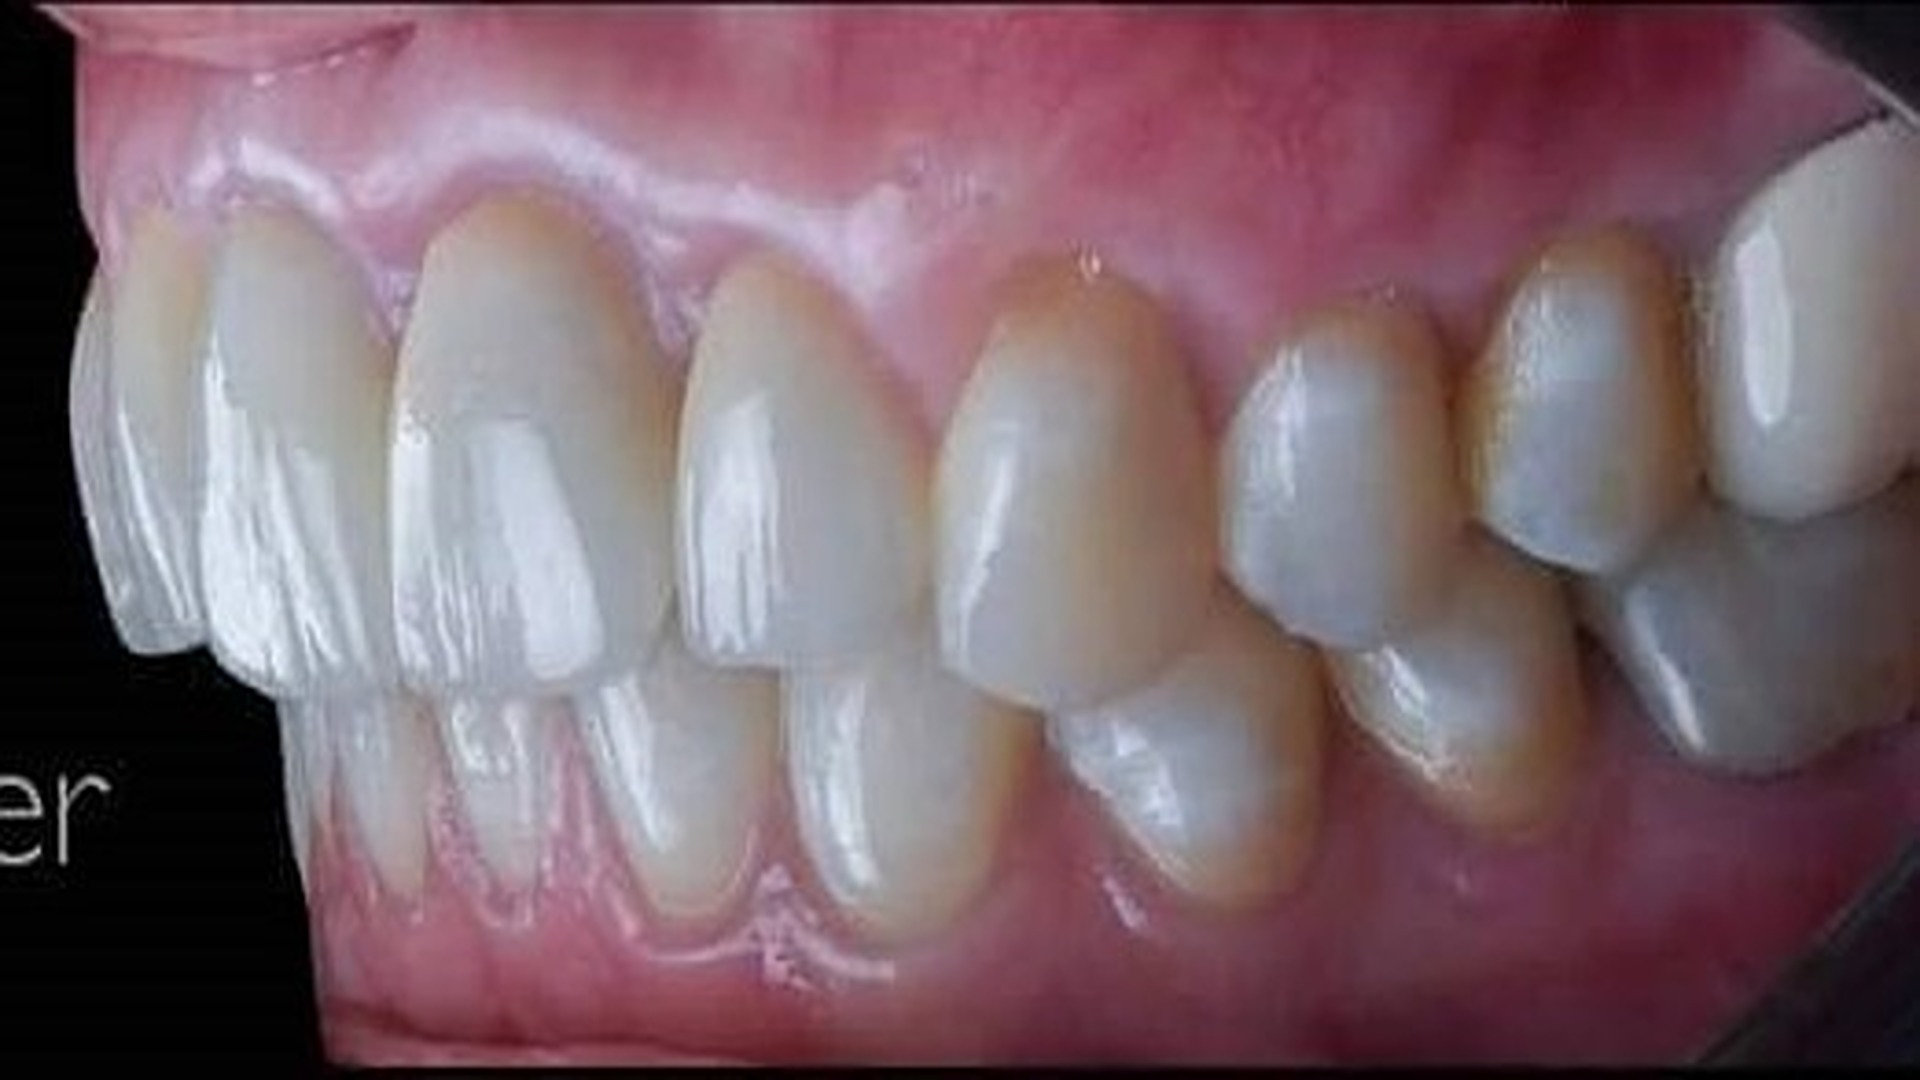tooth: (388, 186, 684, 695), (930, 251, 1218, 713), (673, 249, 932, 673), (198, 206, 401, 702), (1577, 487, 1917, 777), (1696, 115, 1917, 522), (1457, 223, 1706, 576), (1217, 297, 1464, 650), (769, 653, 1043, 952), (1313, 553, 1592, 836), (1044, 646, 1331, 911), (575, 642, 785, 955), (112, 214, 212, 620), (438, 684, 579, 894), (338, 705, 440, 902)
